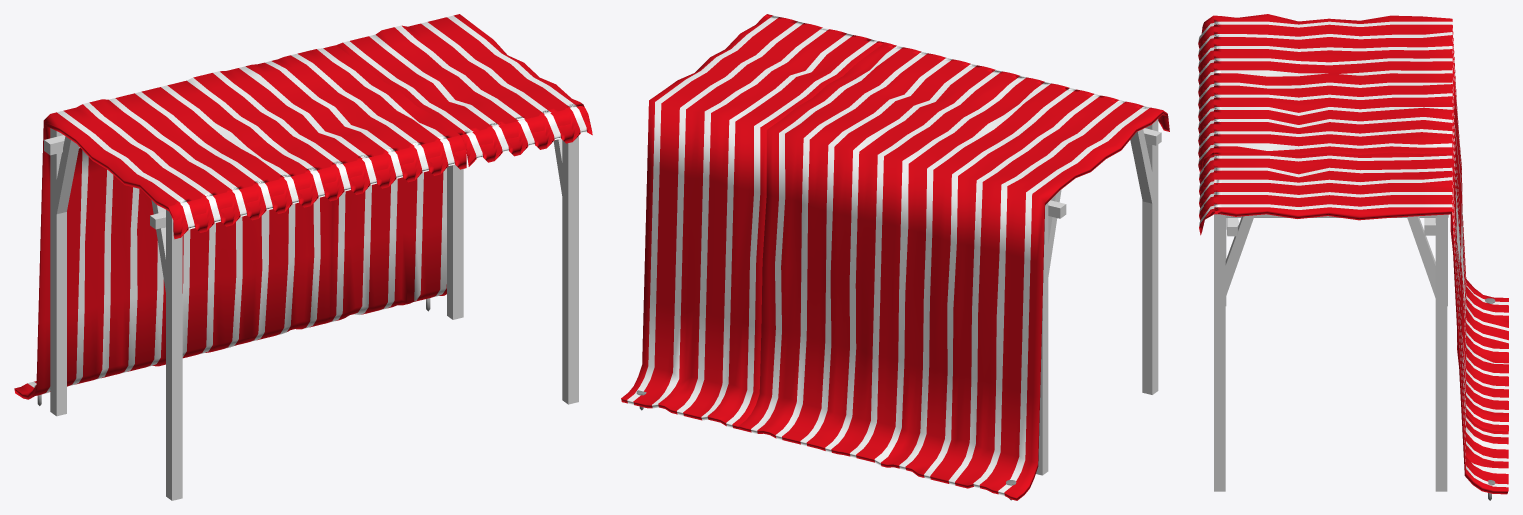
File: Jahrmarktstand_v02.fbx
The picture shows the model from 3 angles, left to right: view 1: azimuth 30°, elevation 25°; view 2: azimuth 150°, elevation 25°; view 3: azimuth 270°, elevation 25°; orthographic projection. The views are drawn at different scales.
Visible parts, largest first — view 1: Plane, Cube, Cube.007, Cube.006, Cube.011, Cube.005; view 2: Plane, Cube, Cube.006, Cube.001; view 3: Plane, Cube.011, Cube.007, Cube.008, Cube.010.
Boxes of the visible parts, x1,y1,x2,y2 form: Plane: (14,14,592,399); Cube: (166,210,182,500); Cube.007: (562,136,578,404); Cube.006: (50,128,66,416); Cube.011: (447,164,463,319); Cube.005: (56,136,79,213); Plane: (621,14,1169,500); Cube: (1142,119,1158,394); Cube.006: (1036,202,1048,475); Cube.001: (1130,129,1152,203); Plane: (1198,14,1508,494); Cube.011: (1435,214,1447,491); Cube.007: (1214,214,1225,491); Cube.008: (1225,215,1254,296); Cube.010: (1407,216,1435,297).
Size of the model in its own units: 1613 by 1127 by 1062.
